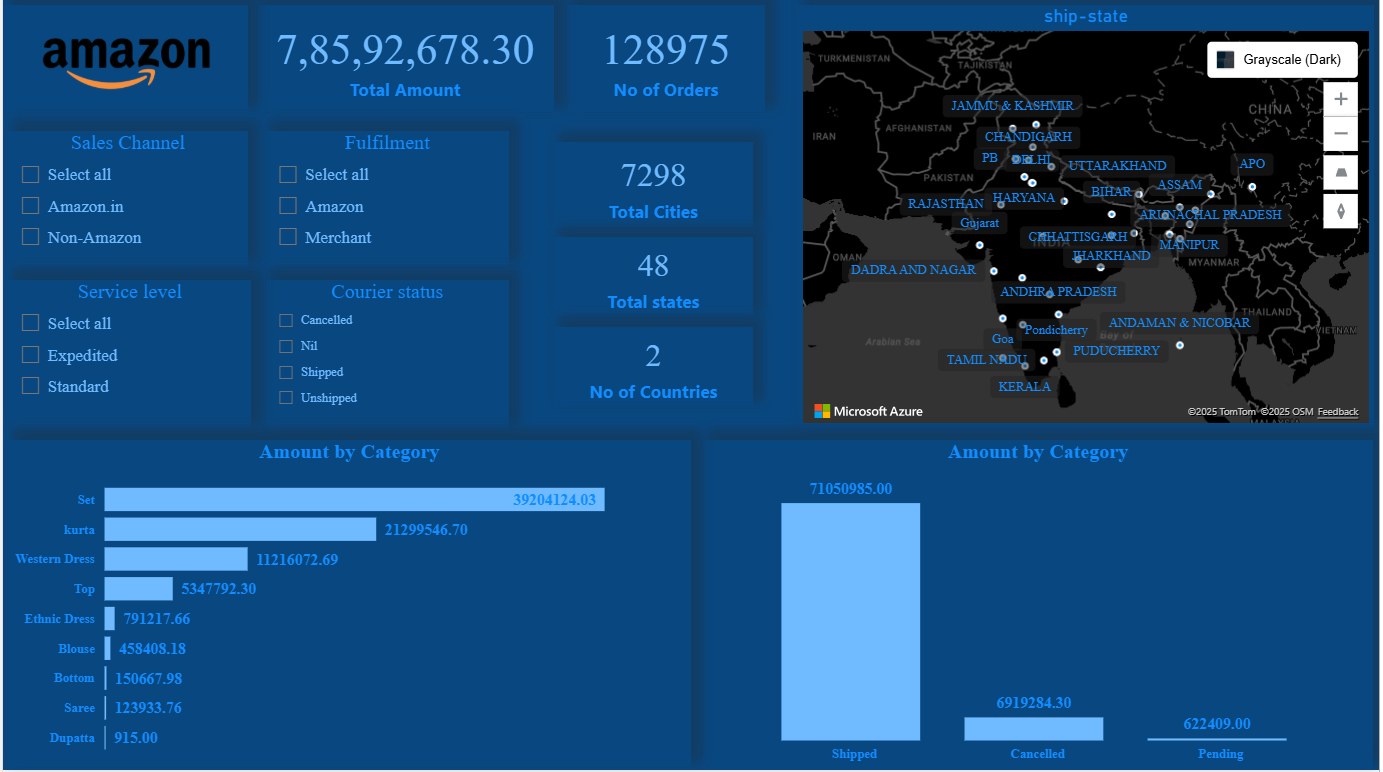

The dashboard page shown, as its layout file describes it:
{"tool":"powerbi","page":{"name":"Page 1","canvas":[1280,720],"ordinal":0},"visuals":[{"type":"image","box":[1.2,8.1,226.7,100],"z":0},{"type":"card","fields":{"Values":["Sum(Amazon Sale Report.Amount)"]},"box":[236,8.1,276.7,100],"z":1000},{"type":"card","fields":{"Values":["Count(Amazon Sale Report.index)"]},"box":[524.4,8.1,184.9,100],"z":2000},{"type":"azureMap","fields":{"Category":["Amazon Sale Report.ship-state"]},"box":[739.5,8.1,536,394.2],"z":3000},{"type":"slicer","title":"Sales Channel","fields":{"Values":["Amazon Sale Report.Sales Channel "]},"box":[4.7,125.6,223.3,125.6],"z":4000},{"type":"slicer","title":"Courier status","fields":{"Values":["Amazon Sale Report.Courier Status"]},"box":[244.2,264,226.7,138.4],"z":5000},{"type":"slicer","title":"Service level","fields":{"Values":["Amazon Sale Report.ship-service-level"]},"box":[4.7,264,226.7,138.4],"z":6000},{"type":"slicer","title":"Fulfilment","fields":{"Values":["Amazon Sale Report.Fulfilment"]},"box":[244.2,125.6,226.7,125.6],"z":7000},{"type":"barChart","title":" Amount by Category","fields":{"Category":["Amazon Sale Report.Category"],"Y":["Sum(Amazon Sale Report.Amount)"]},"box":[4.7,412.8,634.9,304.7],"z":8000},{"type":"columnChart","title":" Amount by Category","fields":{"Category":["Amazon Sale Report.Status.1"],"Y":["Sum(Amazon Sale Report.Amount)"]},"box":[651.2,412.8,623.3,307],"z":9000},{"type":"card","fields":{"Values":["Count(Amazon Sale Report.ship-state)"]},"box":[512.8,224.3,184.9,73.3],"z":10000},{"type":"card","fields":{"Values":["Count(Amazon Sale Report.ship-city)"]},"box":[512.8,135.9,184.9,80.2],"z":11000},{"type":"card","fields":{"Values":["Count(Amazon Sale Report.ship-country)"]},"box":[512.8,308,184.9,73.3],"z":12000}]}

Visuals, with their boxes in screenshot pixels (x1, y1, x2, y2), scaled from the page's 1280x720 canvas onto the 1383x772 screenshot:
image: bbox=(1, 9, 246, 116)
card - Sum(Amazon Sale Report.Amount): bbox=(255, 9, 554, 116)
card - Count(Amazon Sale Report.index): bbox=(567, 9, 766, 116)
azureMap - Amazon Sale Report.ship-state: bbox=(799, 9, 1378, 431)
"Sales Channel" slicer: bbox=(5, 135, 246, 269)
"Courier status" slicer: bbox=(264, 283, 509, 431)
"Service level" slicer: bbox=(5, 283, 250, 431)
"Fulfilment" slicer: bbox=(264, 135, 509, 269)
" Amount by Category" barChart: bbox=(5, 443, 691, 769)
" Amount by Category" columnChart: bbox=(704, 443, 1377, 771)
card - Count(Amazon Sale Report.ship-state): bbox=(554, 240, 754, 319)
card - Count(Amazon Sale Report.ship-city): bbox=(554, 146, 754, 232)
card - Count(Amazon Sale Report.ship-country): bbox=(554, 330, 754, 409)
